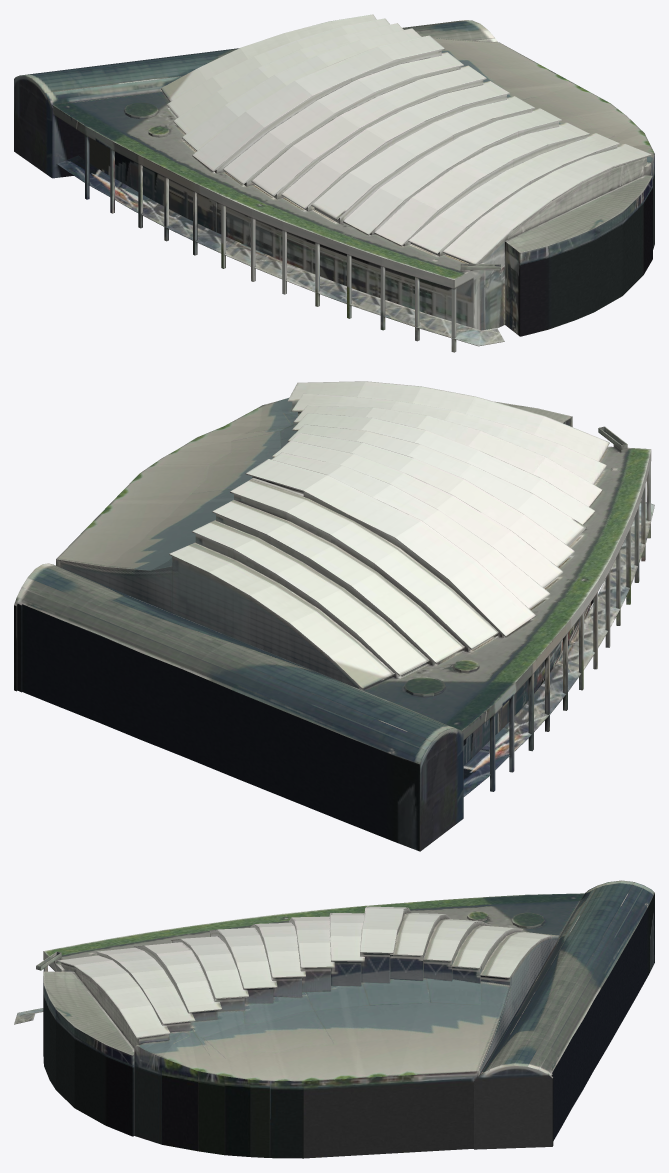
The picture shows the model from 3 angles, top to bottom: view 1: azimuth 30°, elevation 25°; view 2: azimuth 150°, elevation 25°; view 3: azimuth 270°, elevation 25°; orthographic projection. The views are drawn at different scales.
Visible parts, largest first — view 1: 5_0.glb; view 2: 5_0.glb; view 3: 5_0.glb.
Part boxes in pixels (x1,y1,x2,y2): 5_0.glb: [14, 14, 654, 352]; 5_0.glb: [14, 381, 654, 851]; 5_0.glb: [14, 880, 654, 1158].
Size of the model in its own units: 122 by 41.31 by 169.
1 material, 1 textured.
